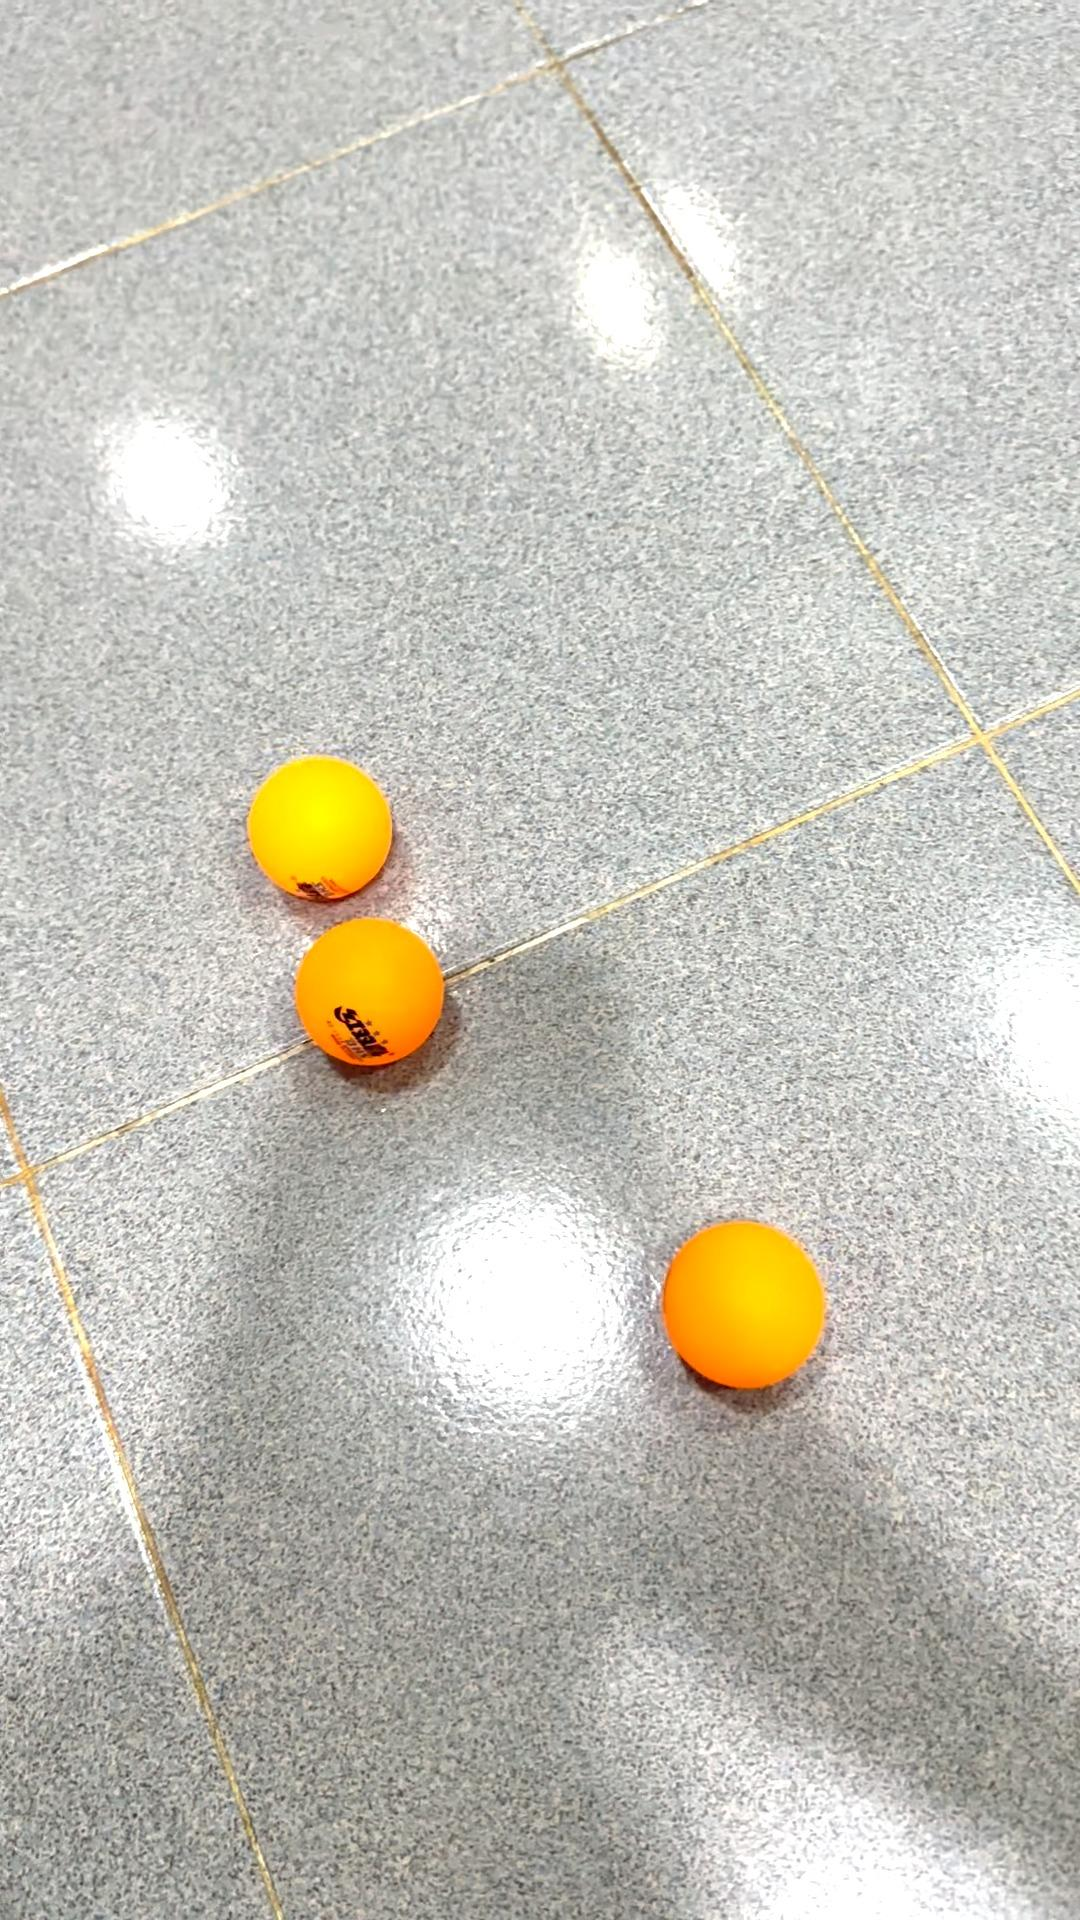oball: (665, 1215, 841, 1390), (290, 910, 462, 1077), (237, 745, 410, 903)
